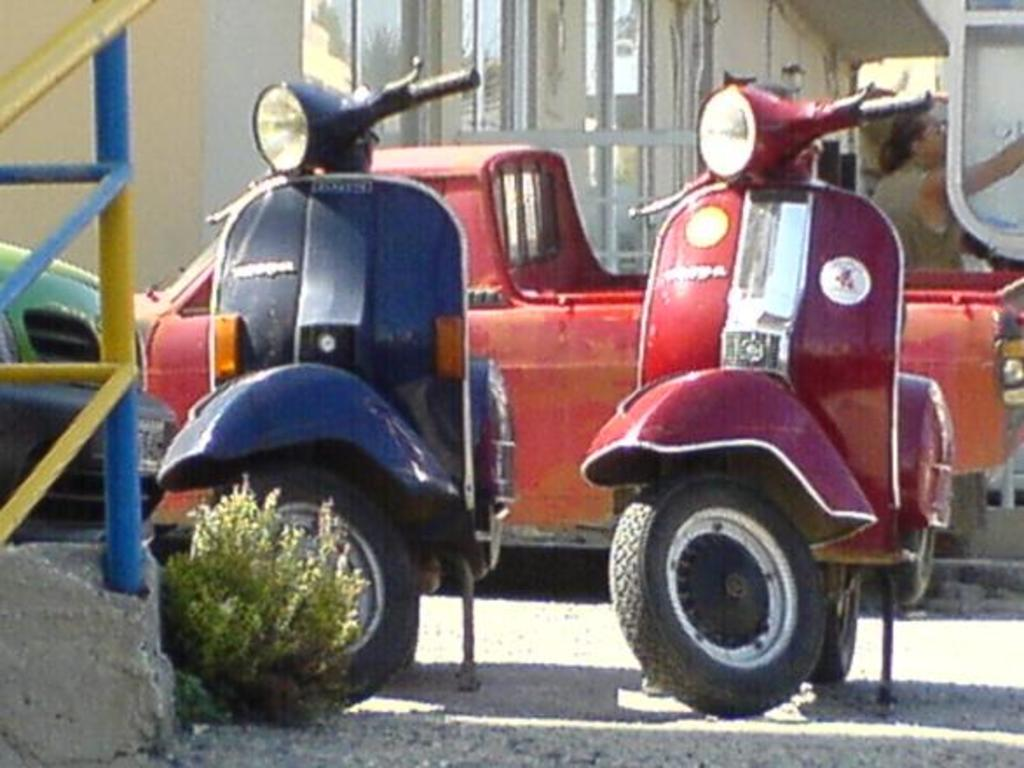Car: (0, 239, 177, 542)
